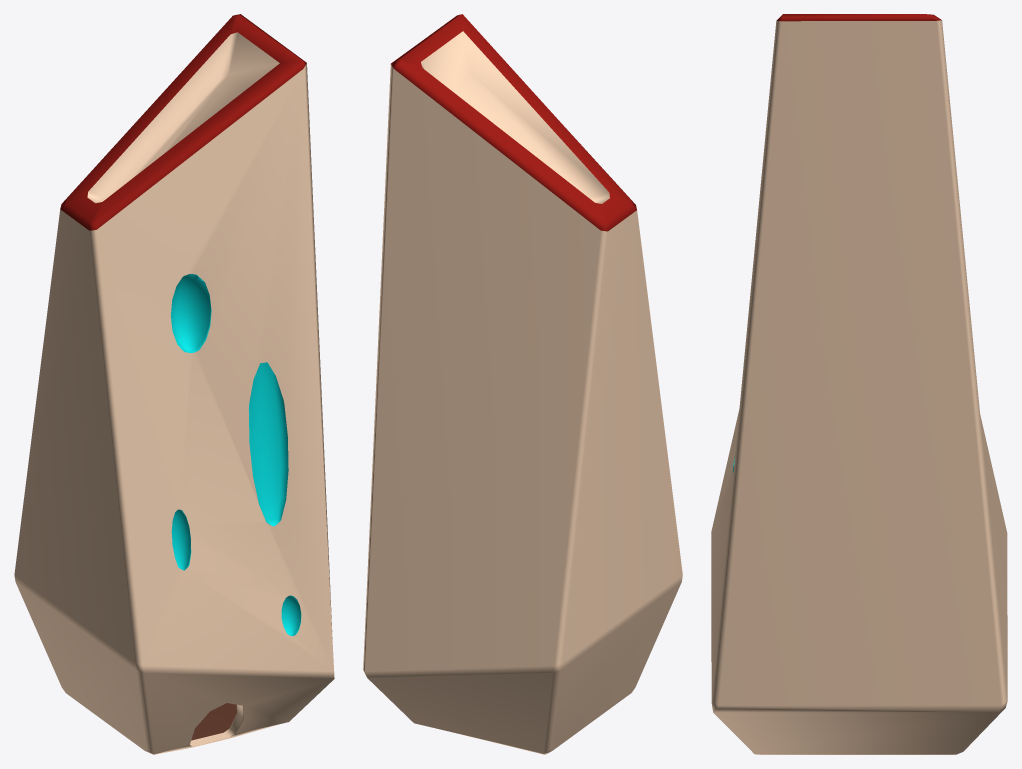
Rendered from SM_skyline_B.fbx.
The picture shows the model from 3 angles, left to right: view 1: azimuth 30°, elevation 25°; view 2: azimuth 150°, elevation 25°; view 3: azimuth 270°, elevation 25°; orthographic projection. The views are drawn at different scales.
Visible parts, largest first — view 1: pCube6; view 2: pCube6; view 3: pCube6.
Boxes of the visible parts, box(x1,y1,x2,y2) form: pCube6: box(14, 14, 334, 754); pCube6: box(363, 14, 682, 754); pCube6: box(711, 14, 1007, 754).
Size of the model in its own units: 11.36 by 35.47 by 12.58.
